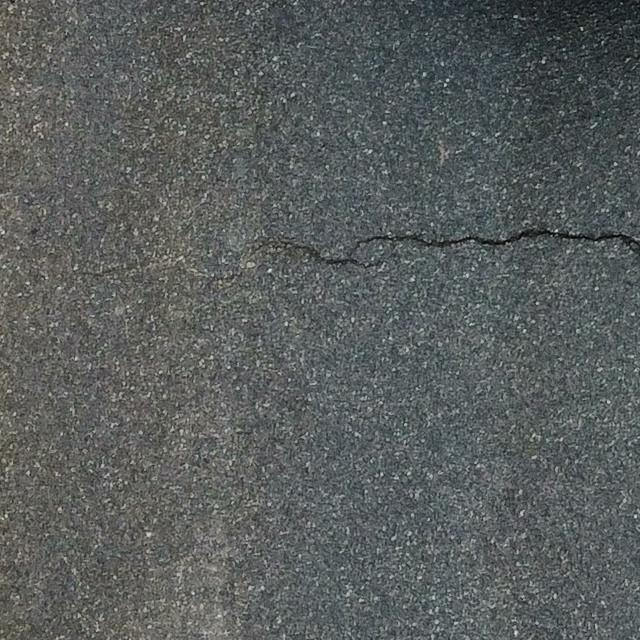TransverseCrack: (257, 227, 640, 265)
